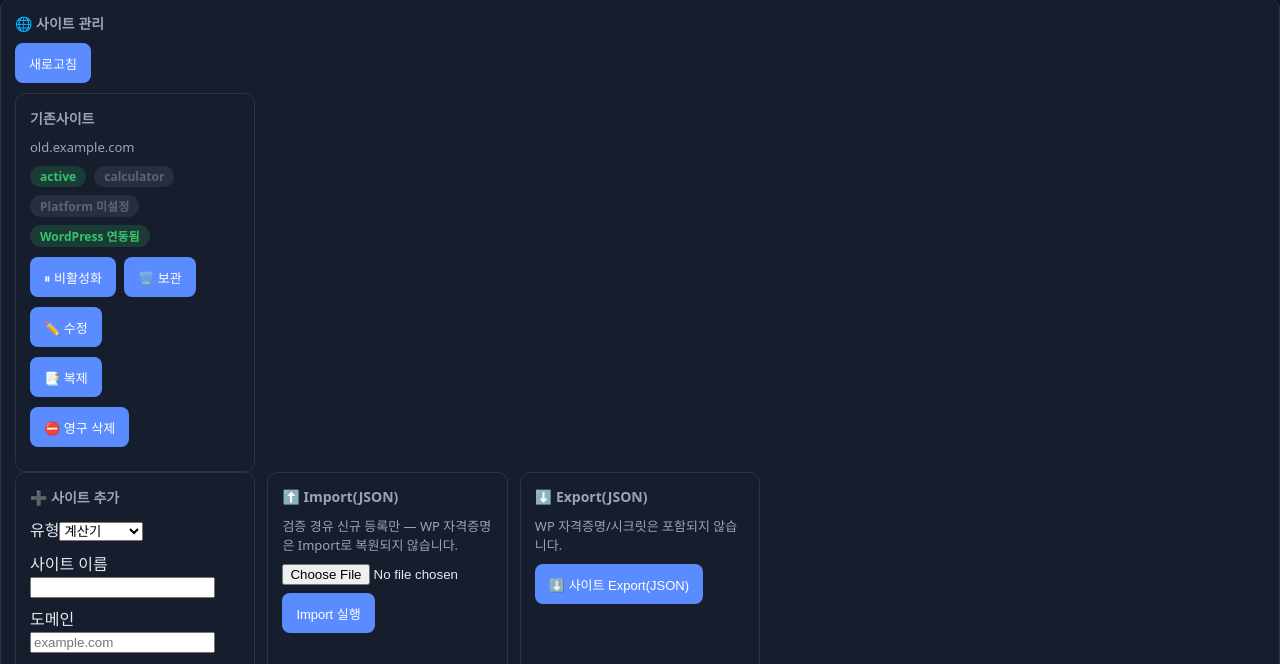
Test case: Site edit panel (STEP P2-07) › pre-populates the Override form with current values
Expected: the heading "기존사이트" is shown, [30, 109, 94, 128]
Click the button "✏️ 수정". click: coordinates (66, 327)
box: [30, 307, 102, 347]
(page scrolled)
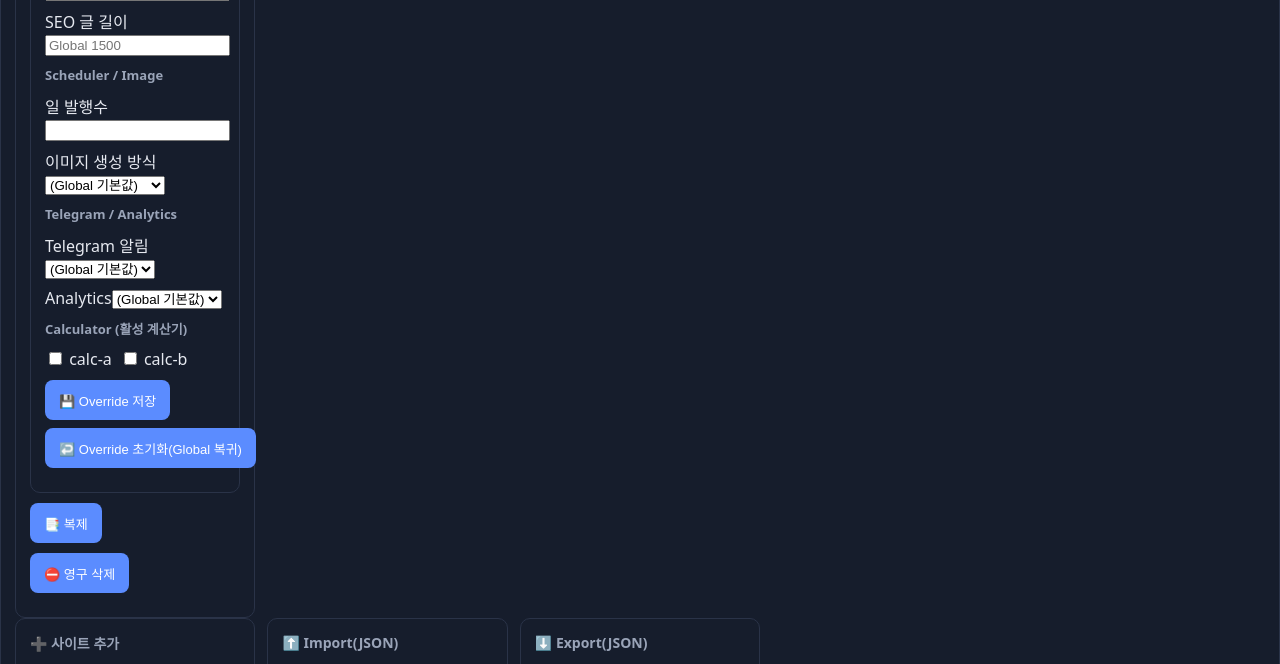
Expected: the checkbox labelled "calc-a" is not checked, [49, 352, 62, 365]
